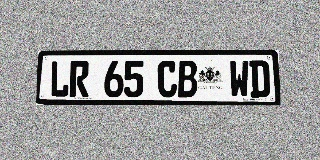5: (124, 61, 144, 97)
6: (104, 61, 124, 97)
B: (178, 60, 197, 97)
C: (158, 61, 177, 97)
D: (249, 60, 270, 98)
L: (49, 61, 70, 97)
R: (69, 61, 89, 97)
W: (229, 60, 249, 98)
